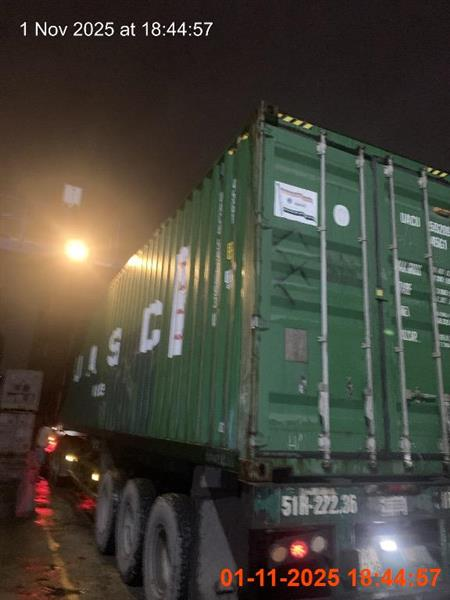hole: (55, 106, 449, 599)
